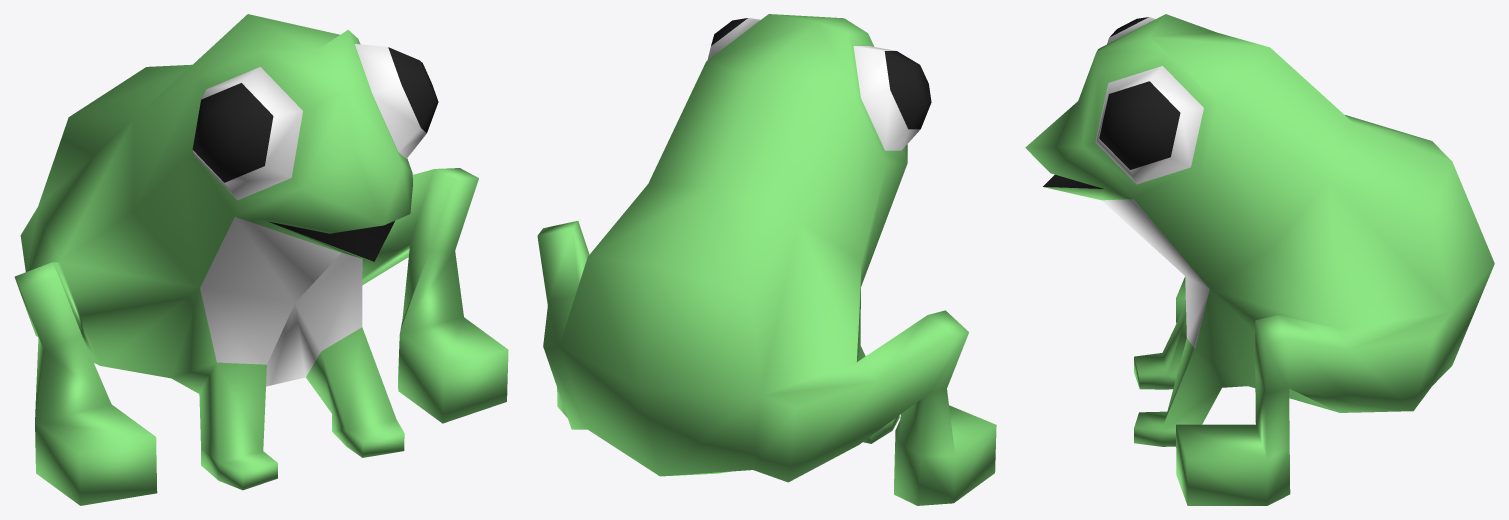
Rendered from FrogAlly.fbx.
3 renders of one model, left to right at view 1: azimuth 30°, elevation 25°; view 2: azimuth 150°, elevation 25°; view 3: azimuth 270°, elevation 25°, orthographic. The views are drawn at different scales.
Visible parts, largest first — view 1: Cube; view 2: Cube; view 3: Cube.
Boxes of the visible parts, <box> form: Cube: <box>14,14,508,505</box>; Cube: <box>537,14,996,505</box>; Cube: <box>1025,14,1494,505</box>.
Size of the model in its own units: 258 by 227 by 255.
